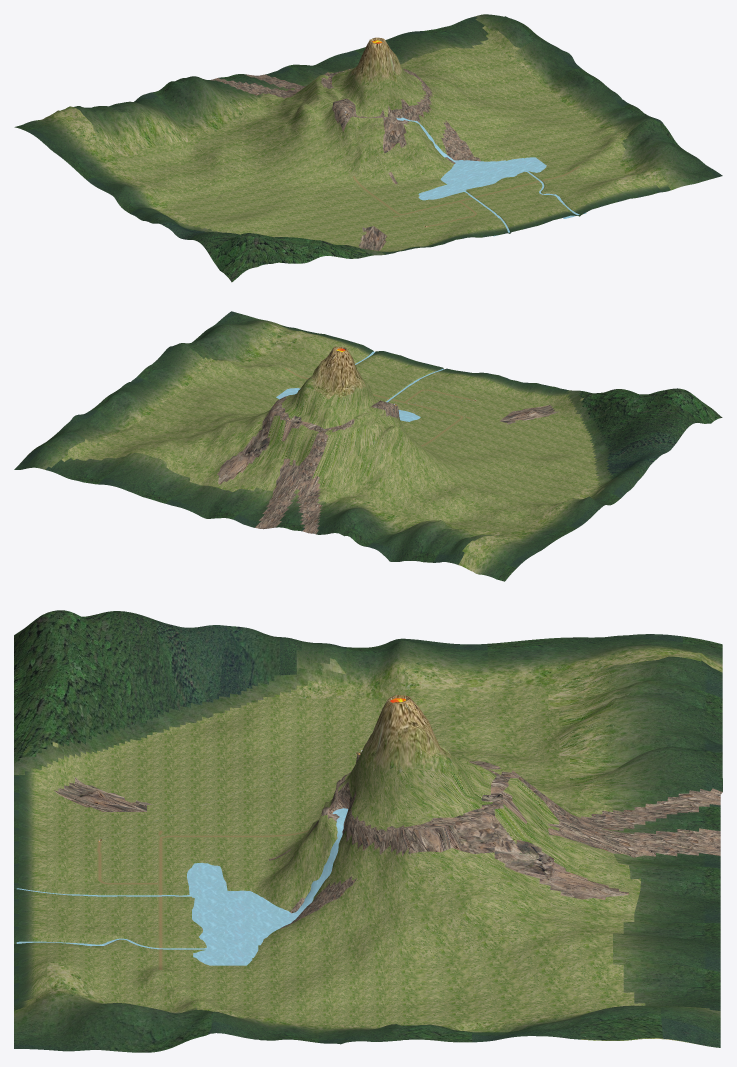
The model's file is Stage.fbx.
The picture shows the model from 3 angles, top to bottom: view 1: azimuth 30°, elevation 25°; view 2: azimuth 150°, elevation 25°; view 3: azimuth 270°, elevation 25°; orthographic projection. The views are drawn at different scales.
Parts seen in each view (by area): view 1: 1幻想郷_mesh; view 2: 1幻想郷_mesh; view 3: 1幻想郷_mesh.
Boxes of the visible parts, x1,y1,x2,y2 form: 1幻想郷_mesh: (14, 14, 722, 282); 1幻想郷_mesh: (14, 311, 722, 581); 1幻想郷_mesh: (14, 610, 722, 1052).
Bounding box in the file's own units: 2900 × 655 × 2221.
24 materials, 18 textured.
